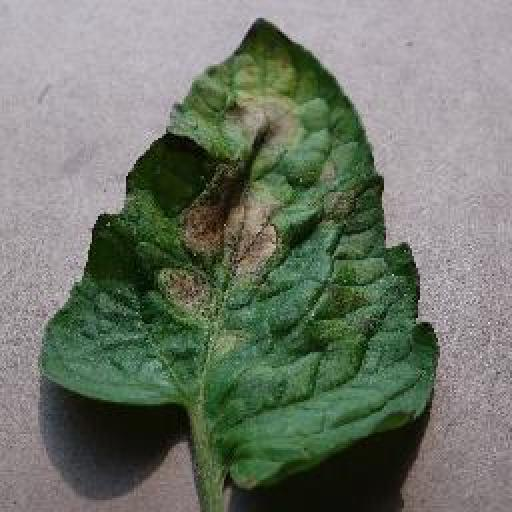disease_tomato: (33, 16, 444, 493)
